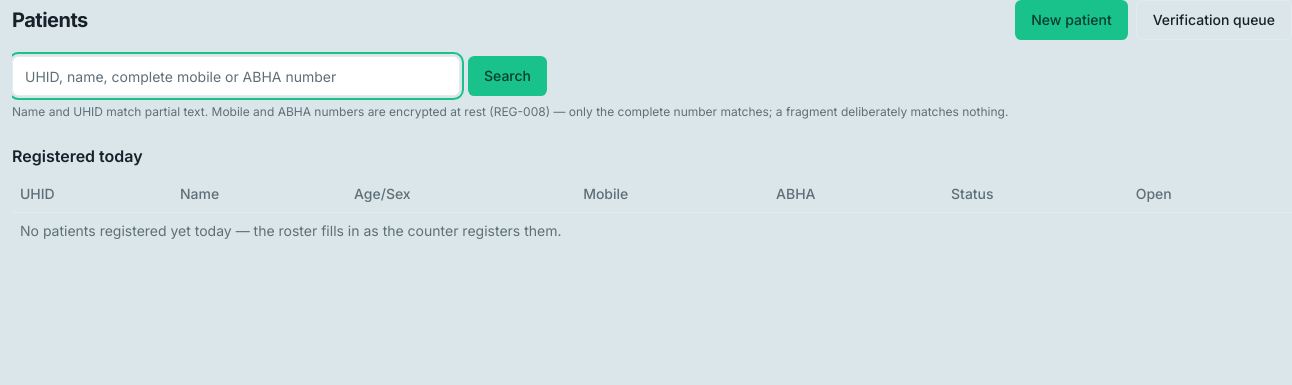
PatientList › never renders another tenant's rows
The width and height of the screenshot is (1292, 385).
In the search field named "search patients": (236, 76) [12,56,460,96], type "Other"
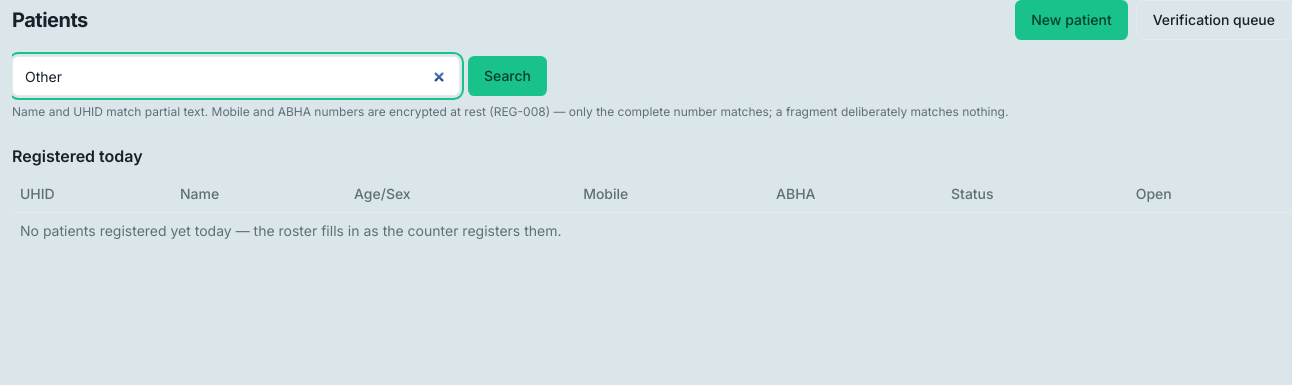
Click the button "Search": (508, 76) [468,56,547,96]
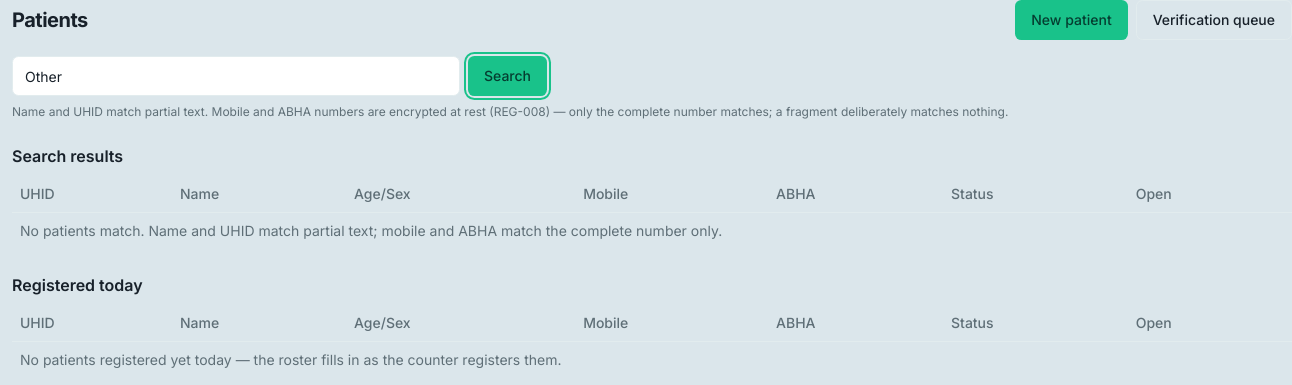
expect the text "No patients match" is shown: met, box [20,222,722,239]
